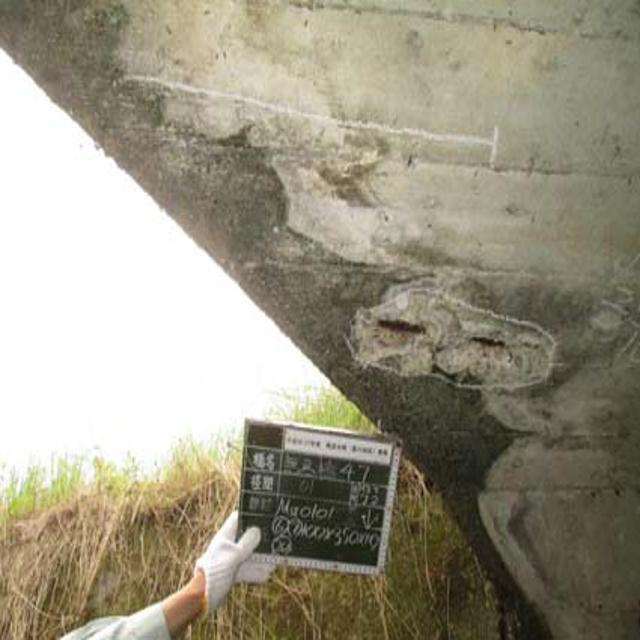spalling: (340, 267, 569, 417)
